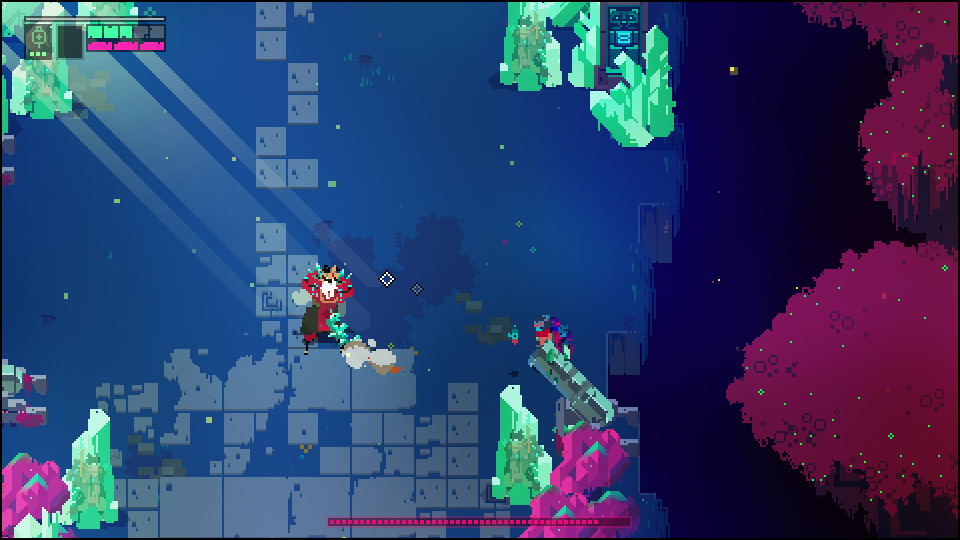hanged_man: (302, 261, 385, 355)
player: (532, 318, 557, 350)
